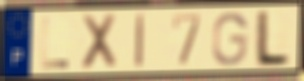7: (170, 12, 203, 68)
G: (210, 10, 249, 67)
I: (133, 11, 146, 70)
L: (252, 8, 293, 68), (40, 16, 71, 70)
X: (78, 11, 119, 72)
